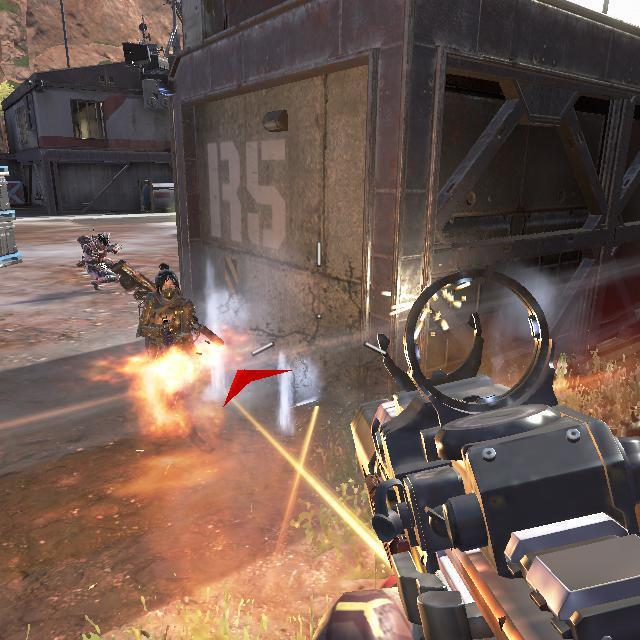avatar: (131, 261, 198, 361), (75, 230, 122, 292)
